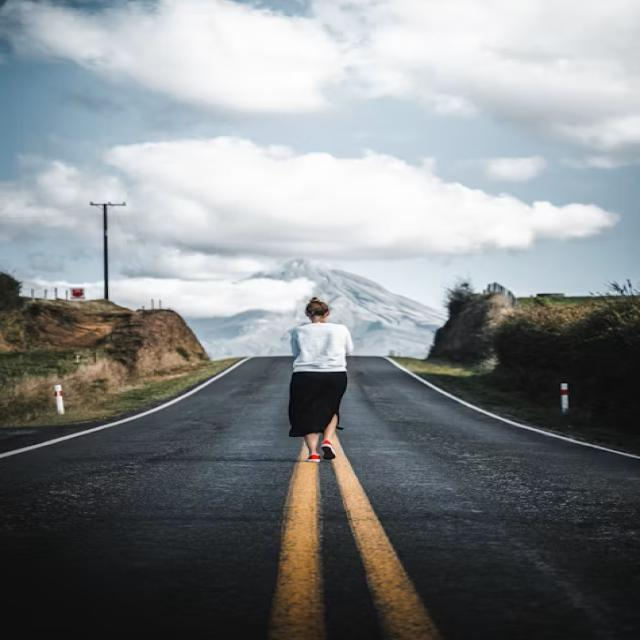Edited images: (261, 286, 404, 487)
